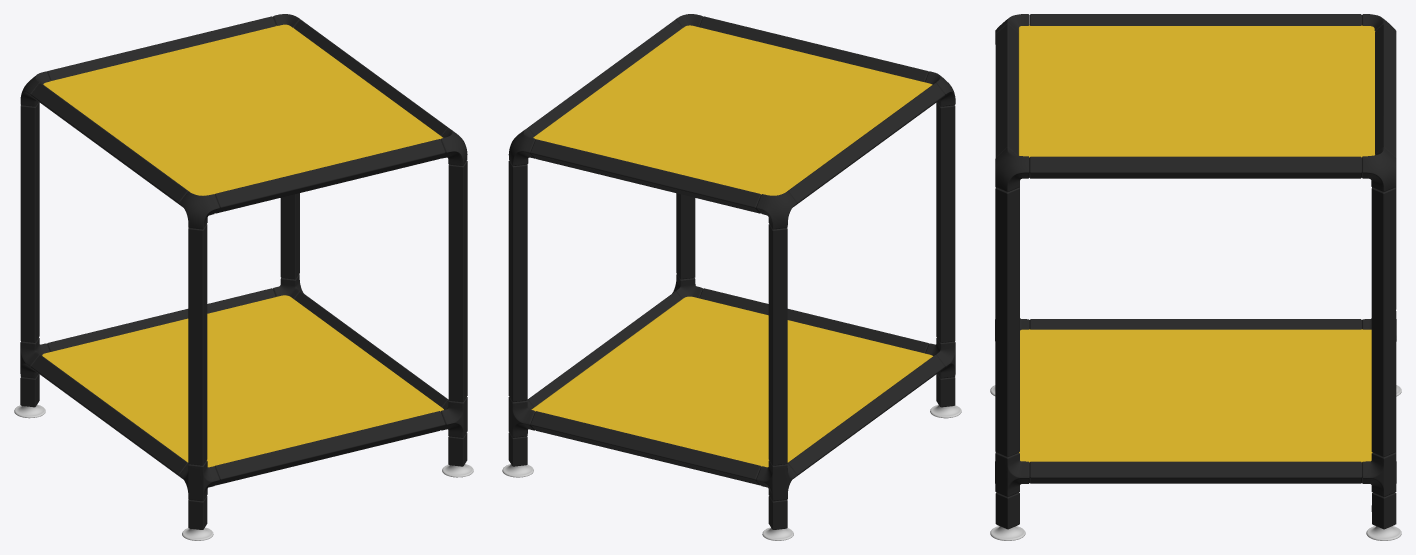
3 renders of one model, left to right at view 1: azimuth 30°, elevation 25°; view 2: azimuth 150°, elevation 25°; view 3: azimuth 270°, elevation 25°, orthographic. The views are drawn at different scales.
Parts seen in each view (by area): view 1: 329x374x329; view 2: 329x374x329; view 3: 329x374x329.
Part boxes in pixels (x1,y1,x2,y2): 329x374x329: (14,14,473,540); 329x374x329: (502,14,961,540); 329x374x329: (990,14,1401,540).
Size of the model in its own units: 0.4189 by 0.4683 by 0.4632.
